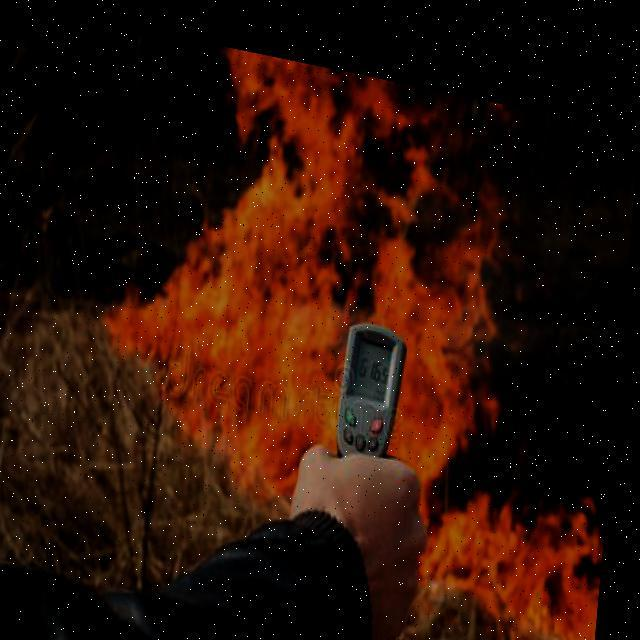Fire: (107, 29, 632, 639)
